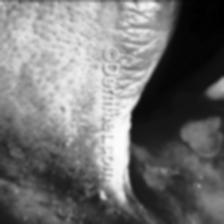Toxin: (175, 103, 224, 174), (86, 189, 122, 221)
